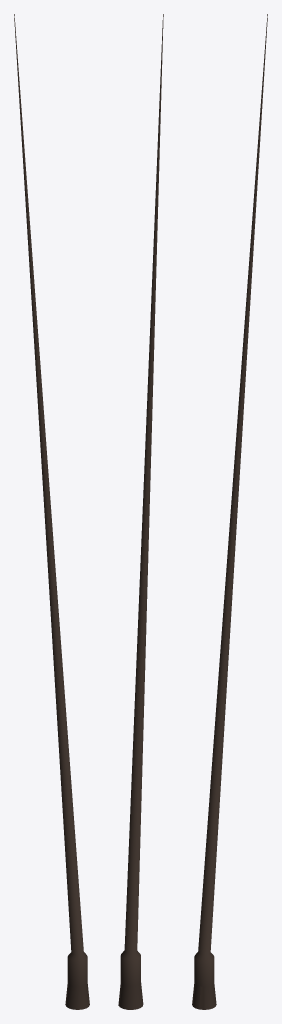
File: right_antenna.obj
3 renders of one model, left to right at view 1: azimuth 90°, elevation 25°; view 2: azimuth 210°, elevation 25°; view 3: azimuth 270°, elevation 25°, orthographic. The views are drawn at different scales.
Visible parts, largest first — view 1: Ozelot:LeftAnt; view 2: Ozelot:LeftAnt; view 3: Ozelot:LeftAnt.
Boxes of the visible parts, x1,y1,x2,y2 form: Ozelot:LeftAnt: [14, 14, 89, 1009]; Ozelot:LeftAnt: [118, 14, 163, 1009]; Ozelot:LeftAnt: [192, 14, 267, 1009].
Bounding box in the file's own units: 4.25 × 189 × 13.14.
